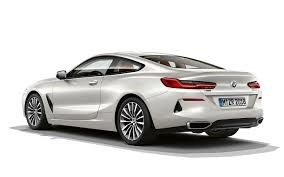bmw: (9, 49, 284, 149)
